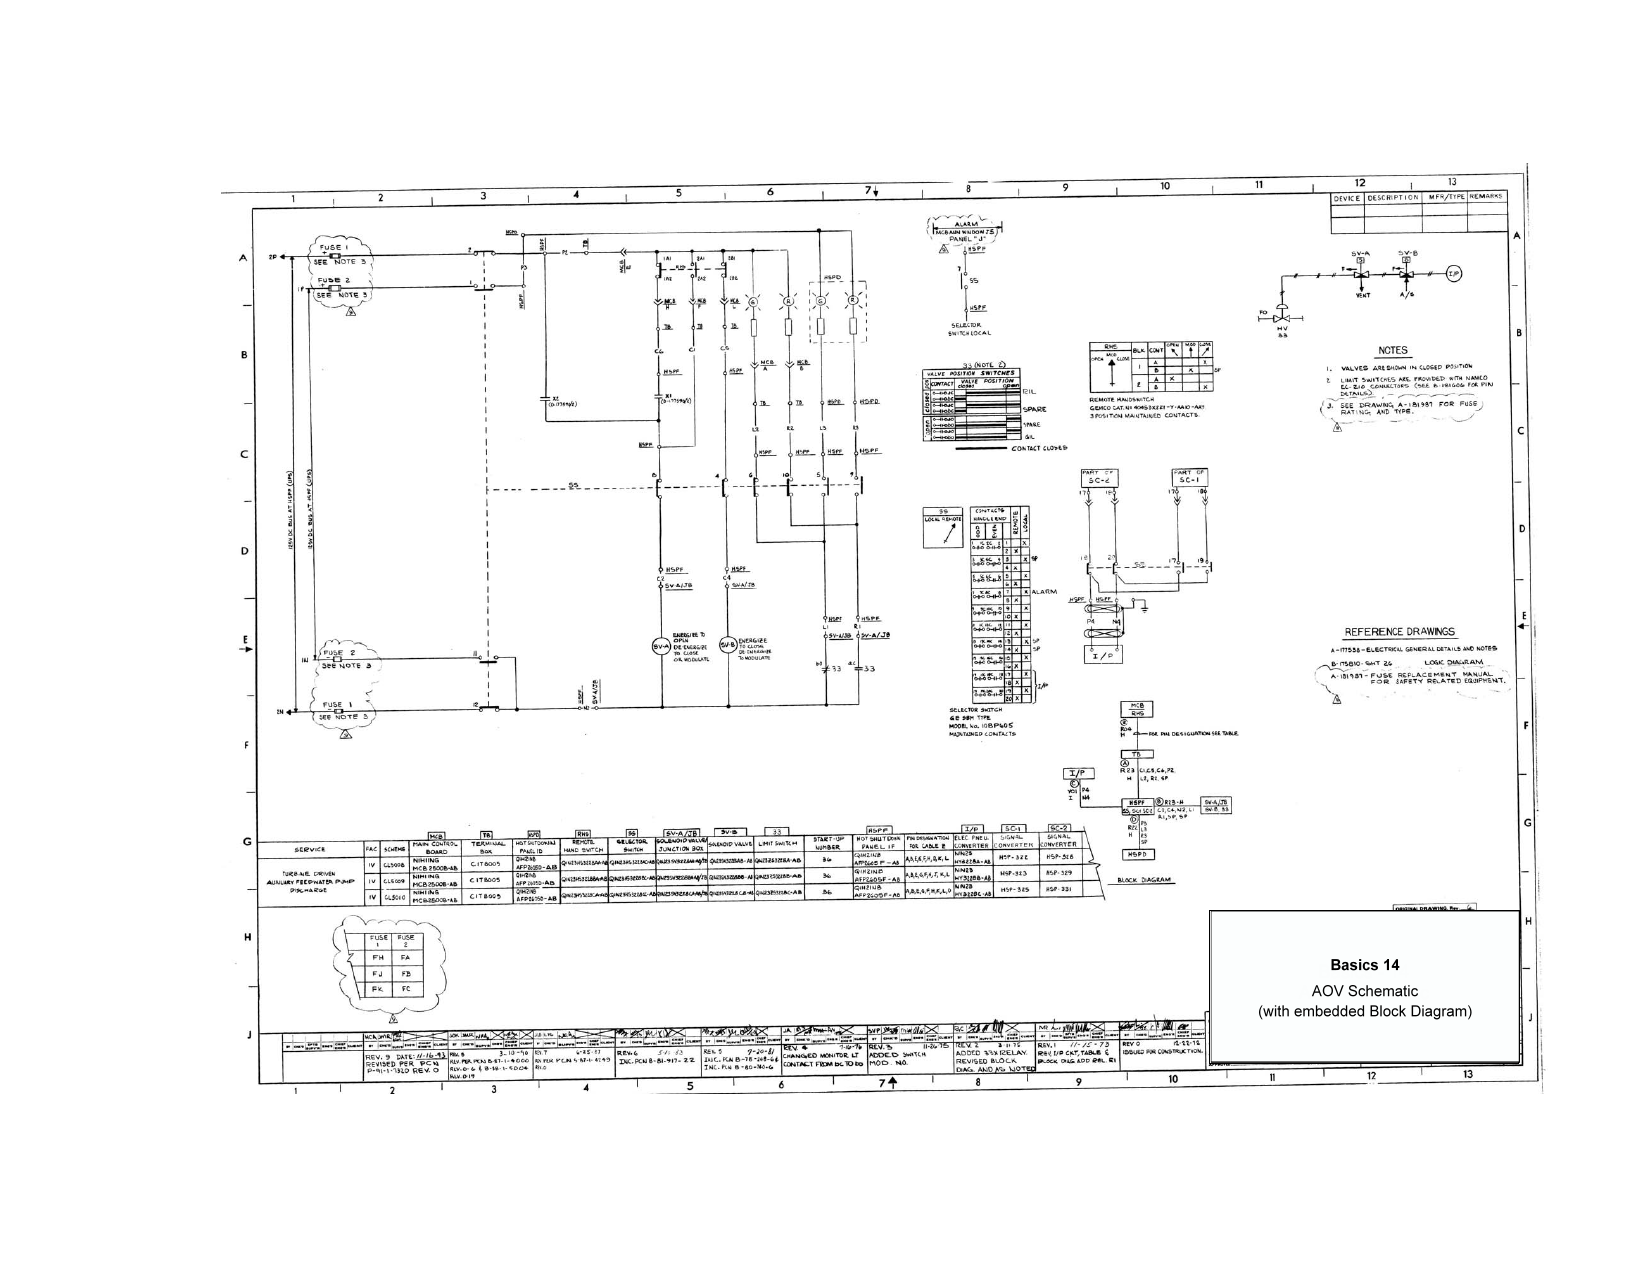circuit_breaker: (457, 240, 507, 265), (640, 468, 675, 503), (777, 469, 805, 509), (741, 465, 769, 504), (950, 260, 981, 294), (466, 695, 511, 718), (813, 467, 839, 505), (846, 468, 874, 502), (463, 276, 504, 299), (706, 466, 731, 501), (468, 649, 511, 669), (711, 257, 737, 285), (1170, 555, 1189, 578), (1079, 552, 1095, 579), (649, 258, 666, 282), (1107, 555, 1123, 579), (1199, 552, 1215, 576), (686, 261, 705, 281)
fuse: (317, 249, 352, 262), (325, 702, 352, 717), (324, 650, 346, 665), (323, 283, 346, 293)
ground: (1103, 356, 1120, 370), (1137, 603, 1157, 614)
